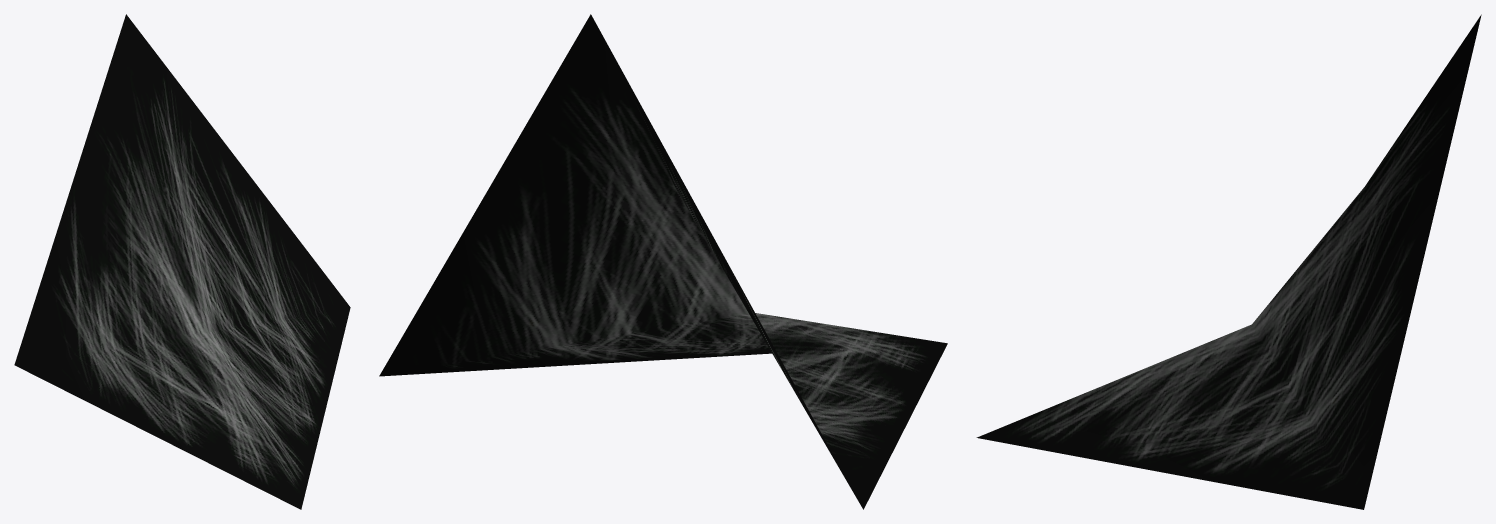
The model's file is EKH_GROTTO_PS_GR_CORNER_WEB__NC07.fbx.
The picture shows the model from 3 angles, left to right: view 1: azimuth 30°, elevation 25°; view 2: azimuth 150°, elevation 25°; view 3: azimuth 270°, elevation 25°; orthographic projection. The views are drawn at different scales.
Parts seen in each view (by area): view 1: EKH_GROTTO_PS_GR_CORNER_WEB__NC07; view 2: EKH_GROTTO_PS_GR_CORNER_WEB__NC07; view 3: EKH_GROTTO_PS_GR_CORNER_WEB__NC07.
Boxes of the visible parts, x1,y1,x2,y2 form: EKH_GROTTO_PS_GR_CORNER_WEB__NC07: (14, 14, 350, 509); EKH_GROTTO_PS_GR_CORNER_WEB__NC07: (379, 14, 947, 509); EKH_GROTTO_PS_GR_CORNER_WEB__NC07: (976, 14, 1481, 509).
Size of the model in its own units: 17536 by 18114 by 18925.
Materials: 1 (1 with a texture image).
